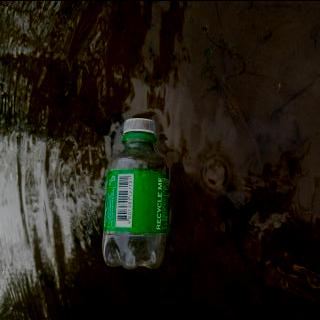bottle: (100, 116, 172, 270)
